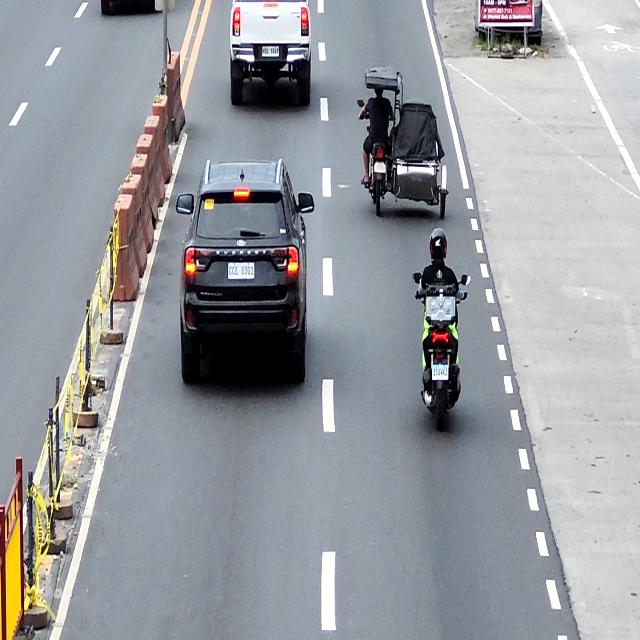Car: (176, 158, 316, 388), (229, 0, 312, 105)
License-Plate: (228, 262, 255, 278), (432, 364, 448, 381), (261, 45, 279, 57), (374, 163, 386, 173)
Motorcycle: (413, 269, 470, 429)
Tricycle: (361, 65, 448, 219)
